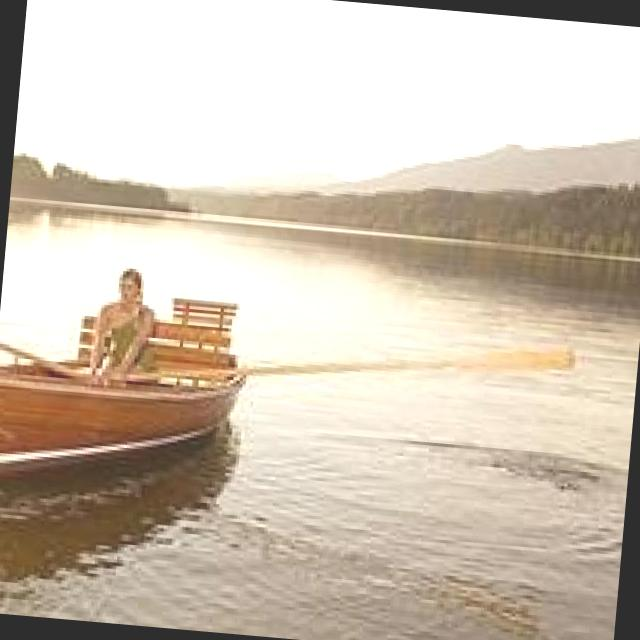no_vest: (93, 296, 158, 370)
